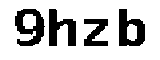9: (12, 7, 45, 49)
b: (118, 5, 147, 49)
h: (47, 5, 78, 51)
z: (81, 14, 113, 51)
